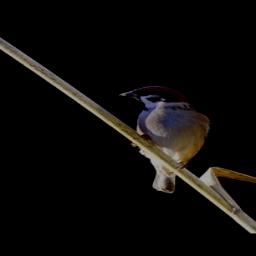Sparrow: (117, 84, 214, 194)
